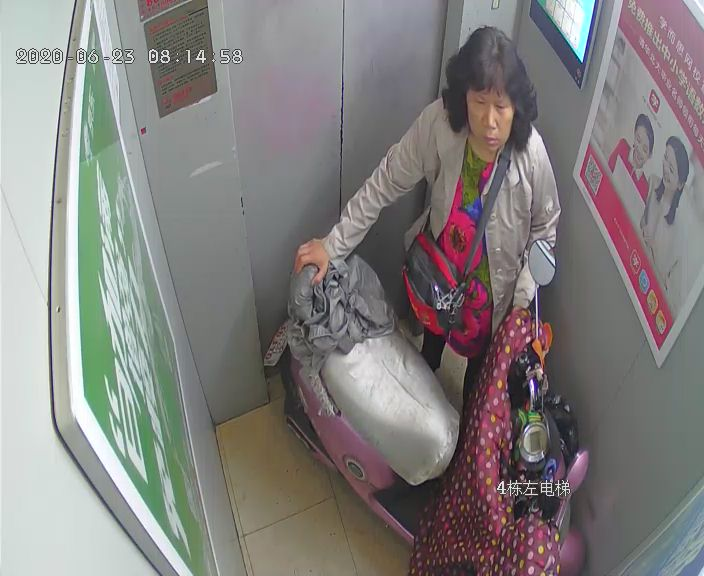Electric-bicycle: (293, 248, 592, 575)
